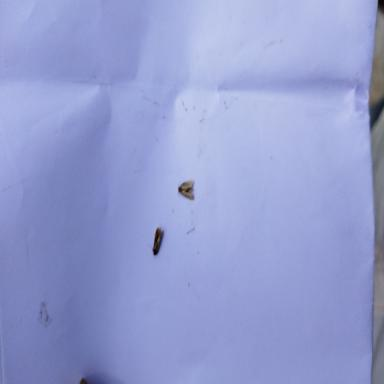pbw: (177, 179, 195, 201), (151, 225, 163, 256)
